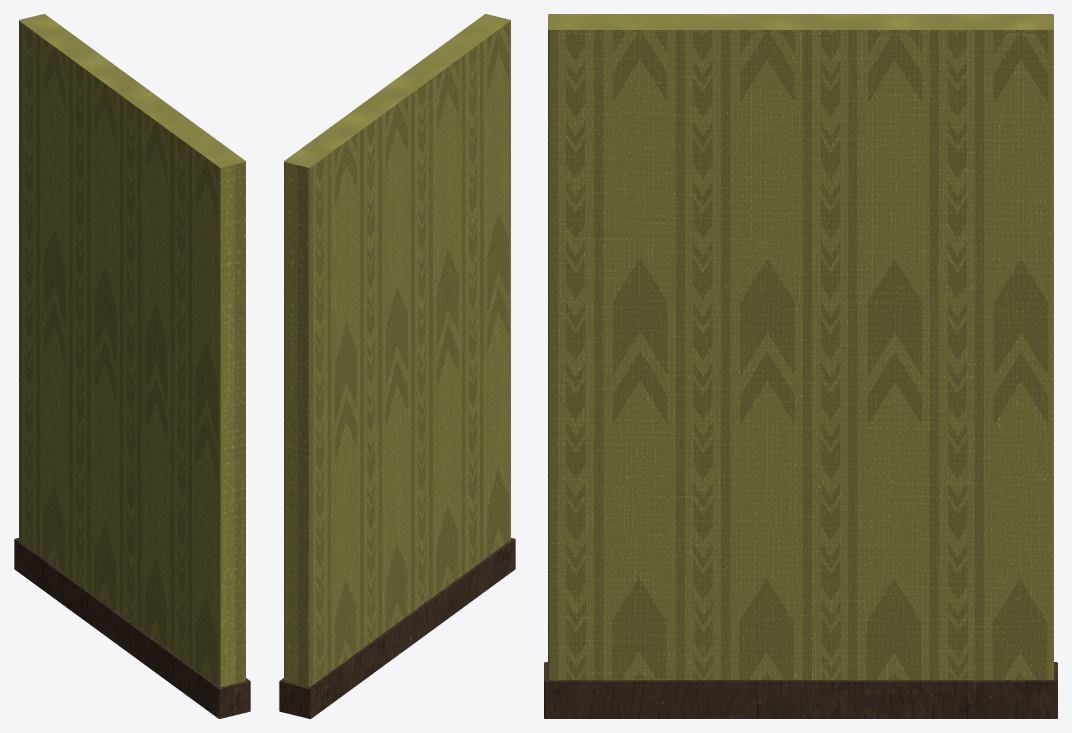
Rendered from backrooms-wall.glb.
The picture shows the model from 3 angles, left to right: view 1: azimuth 30°, elevation 25°; view 2: azimuth 150°, elevation 25°; view 3: azimuth 270°, elevation 25°; orthographic projection. The views are drawn at different scales.
Parts seen in each view (by area): view 1: wall-backroom_0; view 2: wall-backroom_0; view 3: wall-backroom_0.
Boxes of the visible parts, left/top/right/bottom form: wall-backroom_0: left=14, top=14, right=250, bottom=718; wall-backroom_0: left=279, top=14, right=515, bottom=718; wall-backroom_0: left=544, top=14, right=1057, bottom=718.
Bounding box in the file's own units: 0.1825 × 3 × 2.03.
2 materials, 2 textured.
